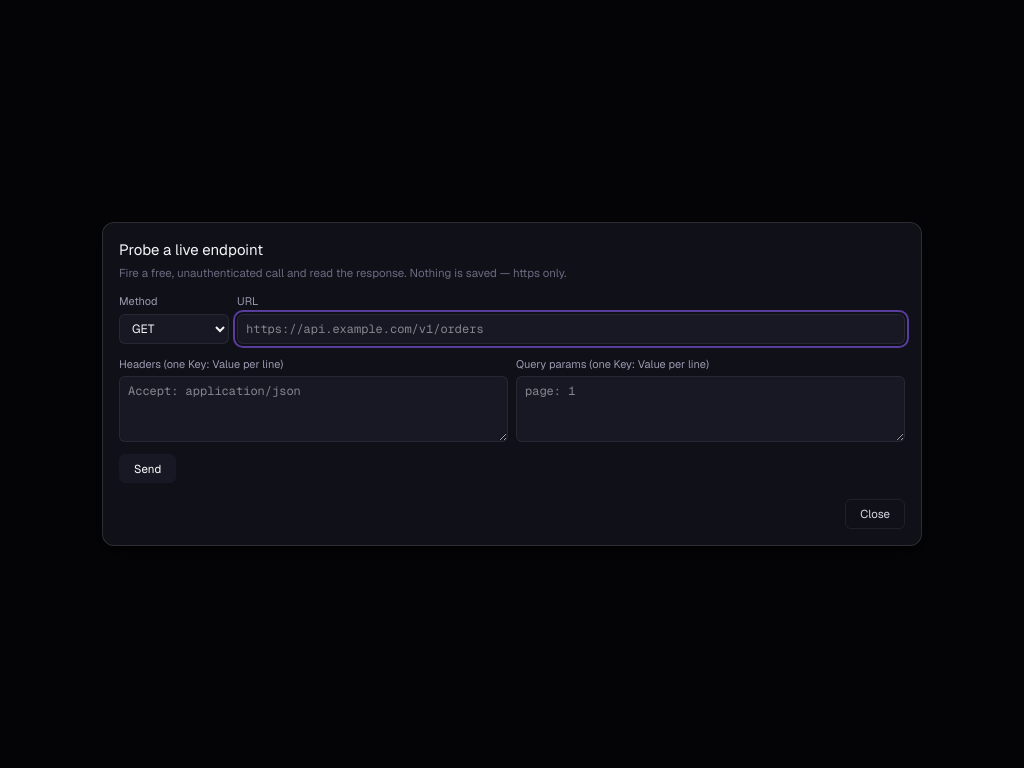
FreeEndpointModal › shows the body field for POST and hides it again for GET
Select "POST" in the dropdown with test id "api-probe-method" at (174, 329), box [119,314,229,344]
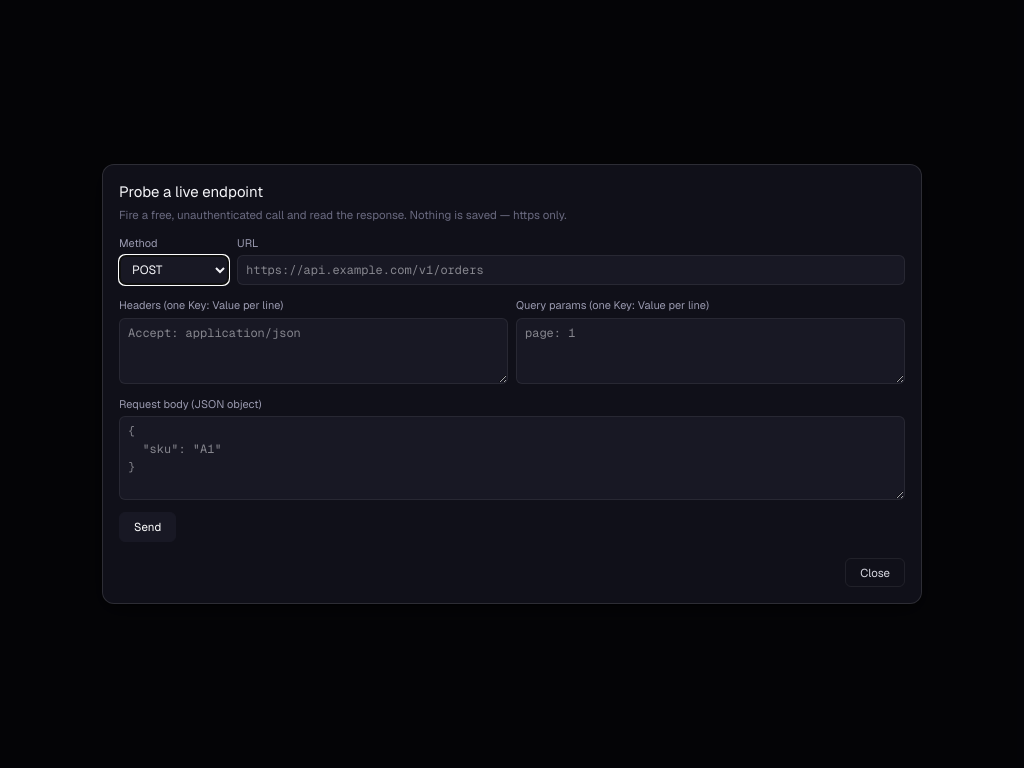
Check: the text box with test id "api-probe-body" is shown, box [119,416,905,500]
Select "GET" in the dropdown with test id "api-probe-method" at (174, 270), box [119,255,229,285]
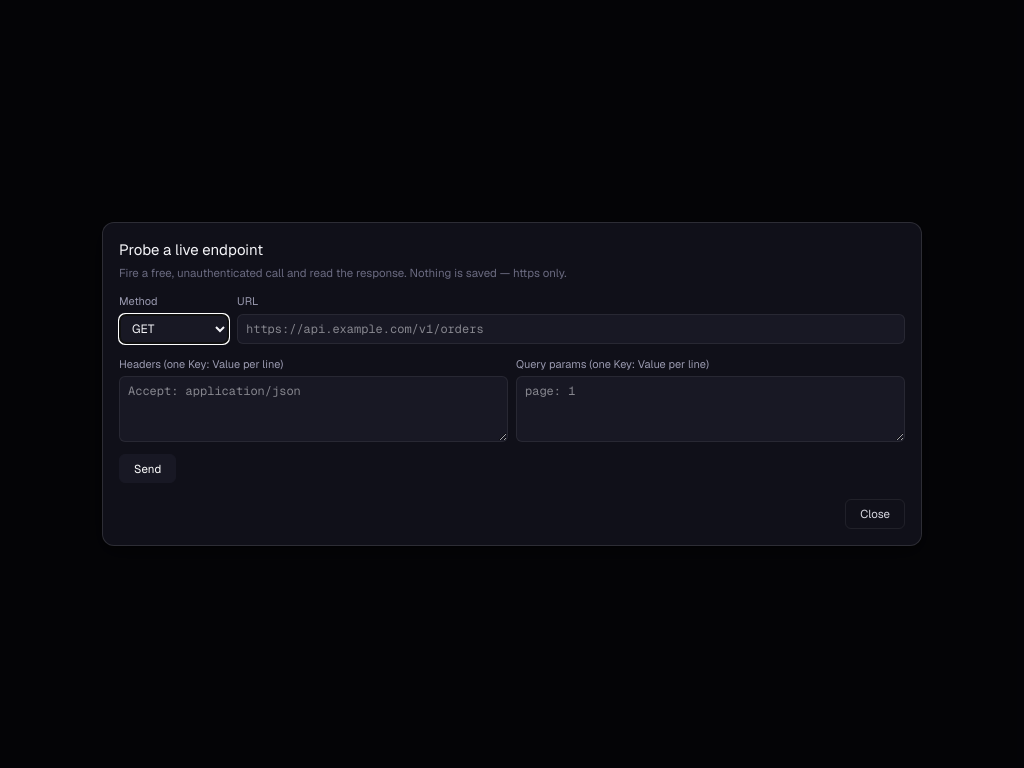
Check: the text box with test id "api-probe-body" is gone
